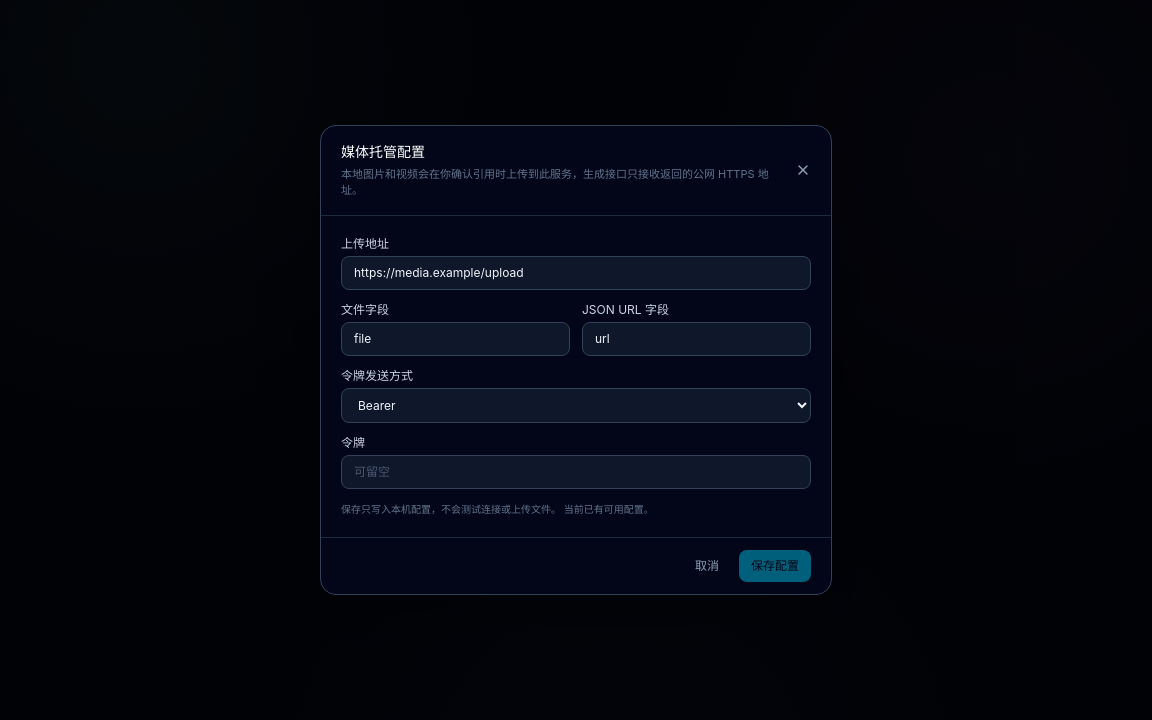
Test: reports a failed save once, without an Error: prefix, and stays open
Type "http://media.example/upload" into the field showing "https://media.example/upload" at (576, 273), box [341,256,811,290]
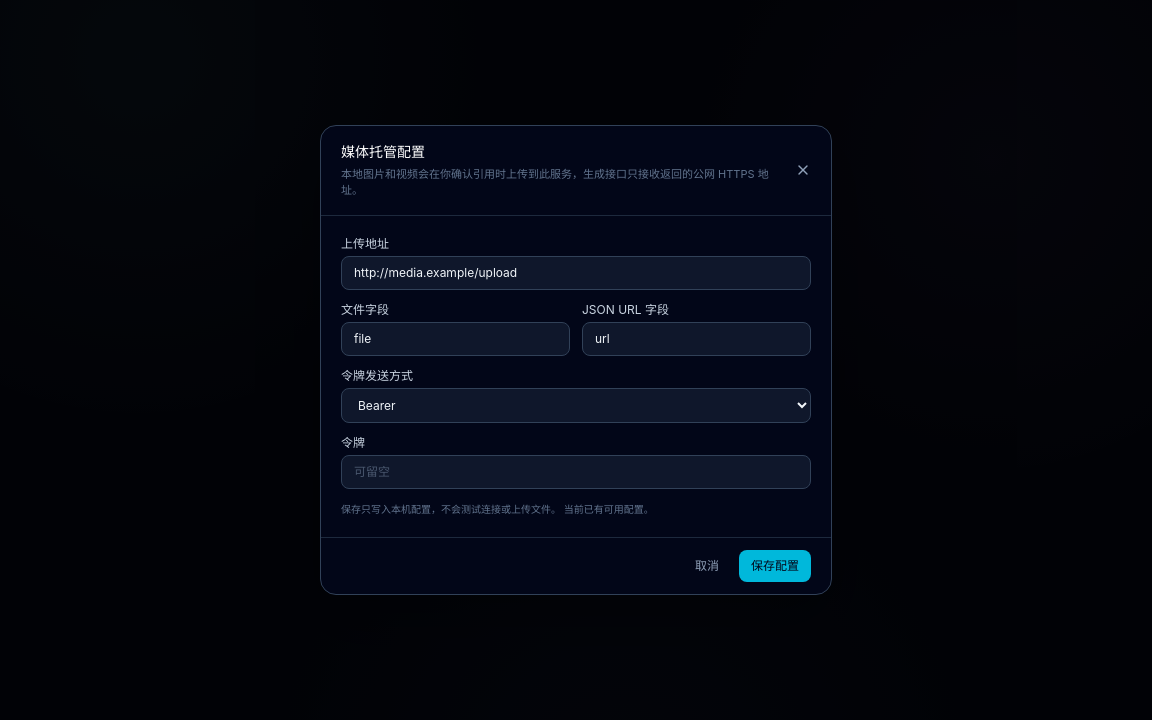
Click the button "保存配置" at (775, 566), box [739,550,811,582]
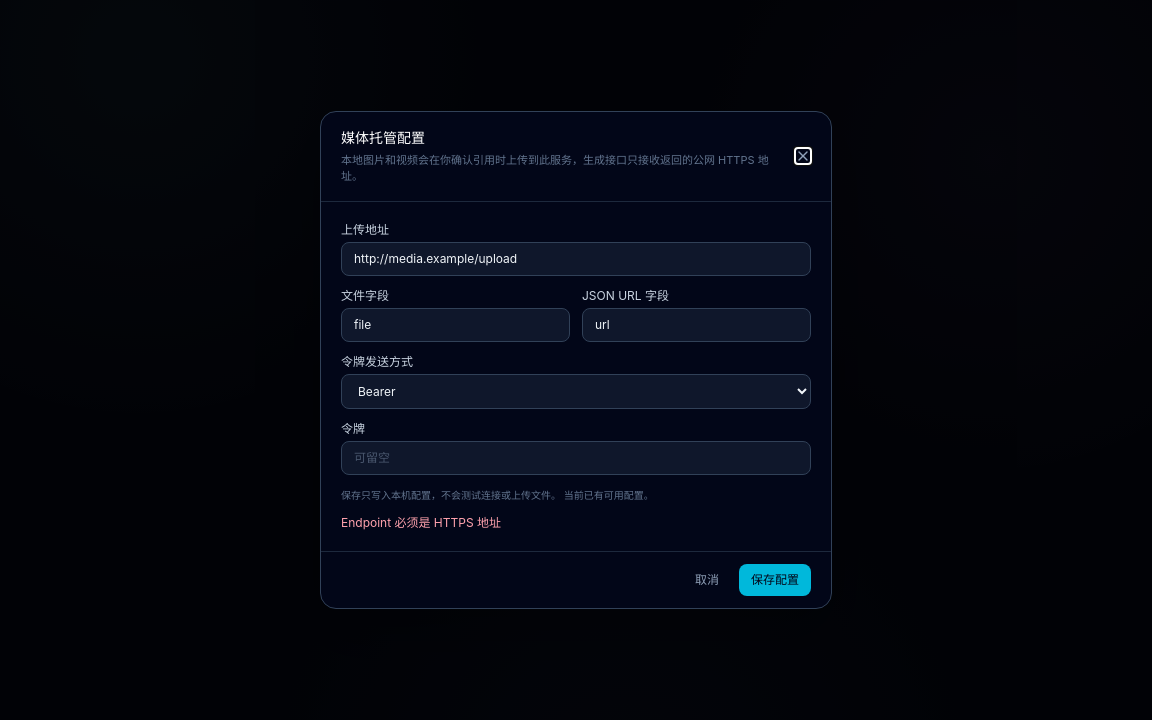
Now the message reads "Endpoint 必须是 HTTPS 地址", box [341,515,501,530]
Now the number of messages is 1, box [341,515,501,530]
